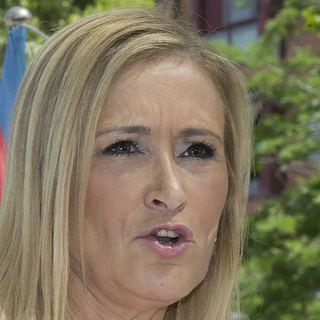eye: (173, 136, 221, 167), (97, 138, 149, 161)
